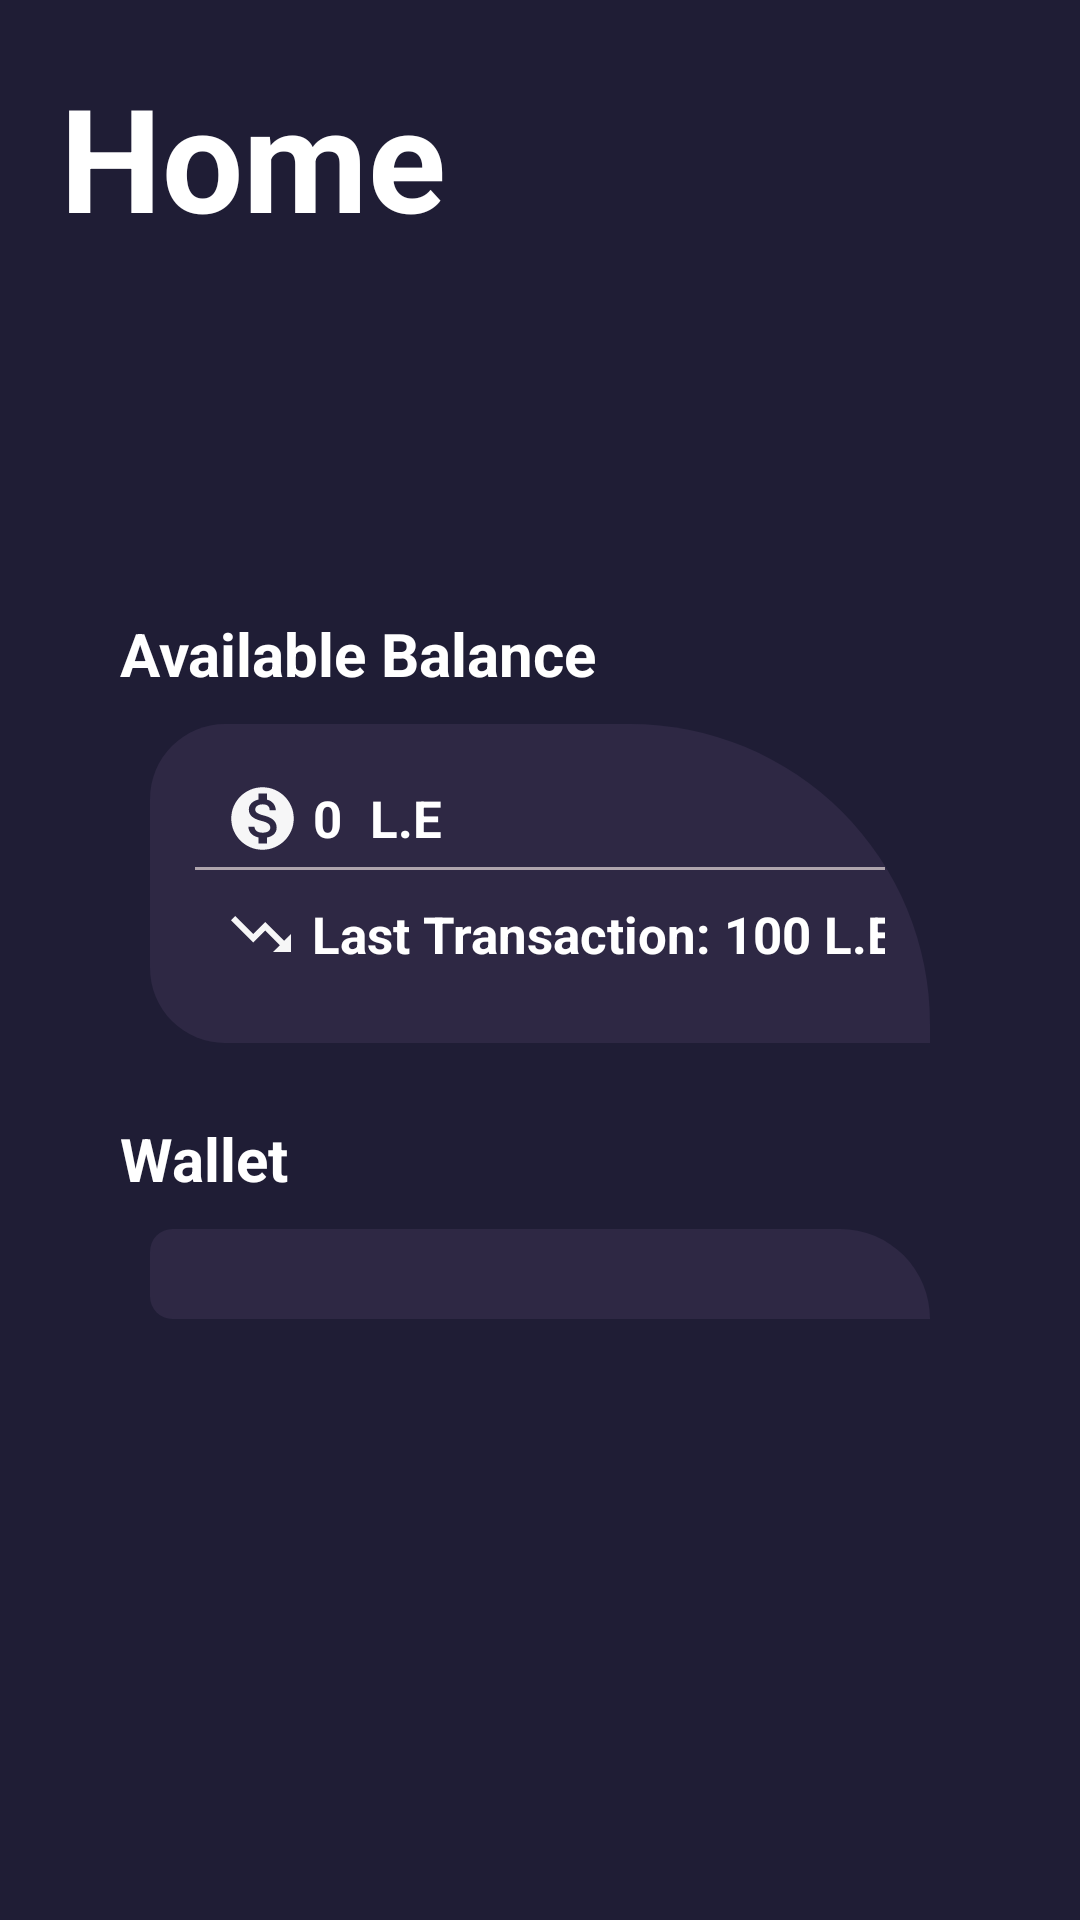

Screen size 1080 × 1920. Icon name, then its center in pixels as (x,y):
dollar: (262,818)
trending down: (261,934)
